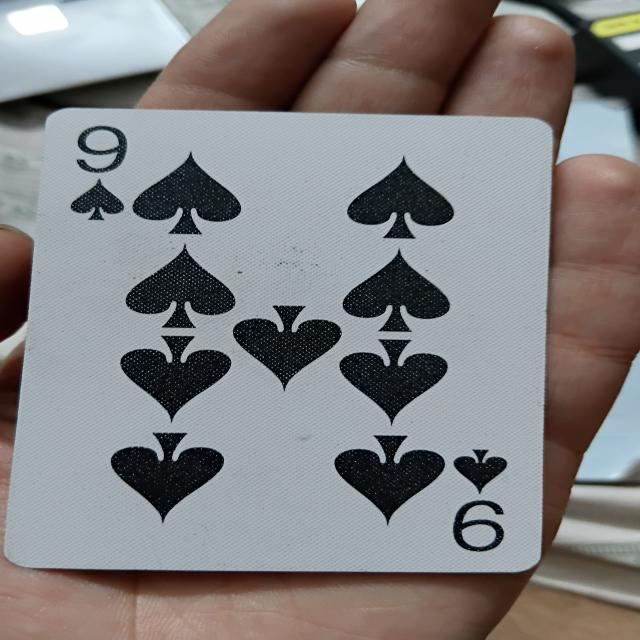9S: (50, 114, 544, 568)
